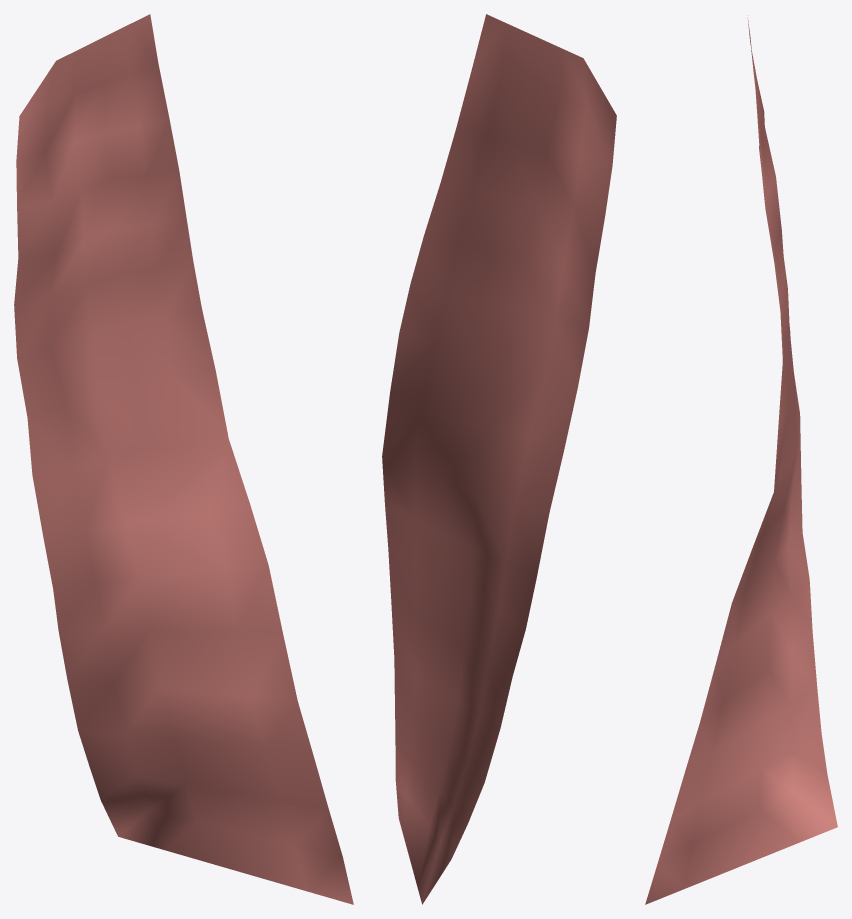
3 renders of one model, left to right at view 1: azimuth 30°, elevation 25°; view 2: azimuth 150°, elevation 25°; view 3: azimuth 270°, elevation 25°, orthographic. The views are drawn at different scales.
Visible parts, largest first — view 1: ZA_edae88ee9925c31e; view 2: ZA_edae88ee9925c31e; view 3: ZA_edae88ee9925c31e.
Part boxes in pixels (x1=…): ZA_edae88ee9925c31e: x1=14, y1=14, x2=353, y2=904; ZA_edae88ee9925c31e: x1=382, y1=14, x2=616, y2=904; ZA_edae88ee9925c31e: x1=645, y1=15, x2=837, y2=904.
Bounding box in the file's own units: 0.0325 × 0.0992 × 0.0216.
